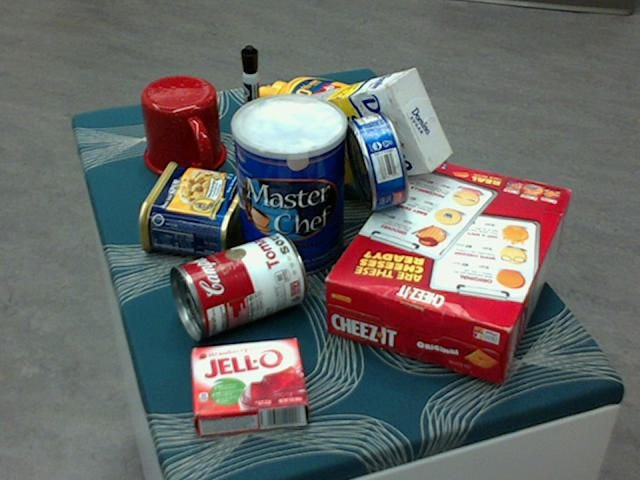cracker_box: (322, 155, 571, 382)
gelatin_box: (190, 337, 309, 435)
large_marker: (240, 44, 262, 147)
master_chef_can: (230, 95, 346, 279)
mug: (141, 75, 227, 178)
mustard_bottle: (256, 75, 421, 164)
potted_meat_can: (137, 161, 251, 258)
sugar_box: (274, 69, 451, 186)
tomato_soup_can: (168, 233, 305, 338)
tuna_fish_can: (346, 110, 409, 209)
